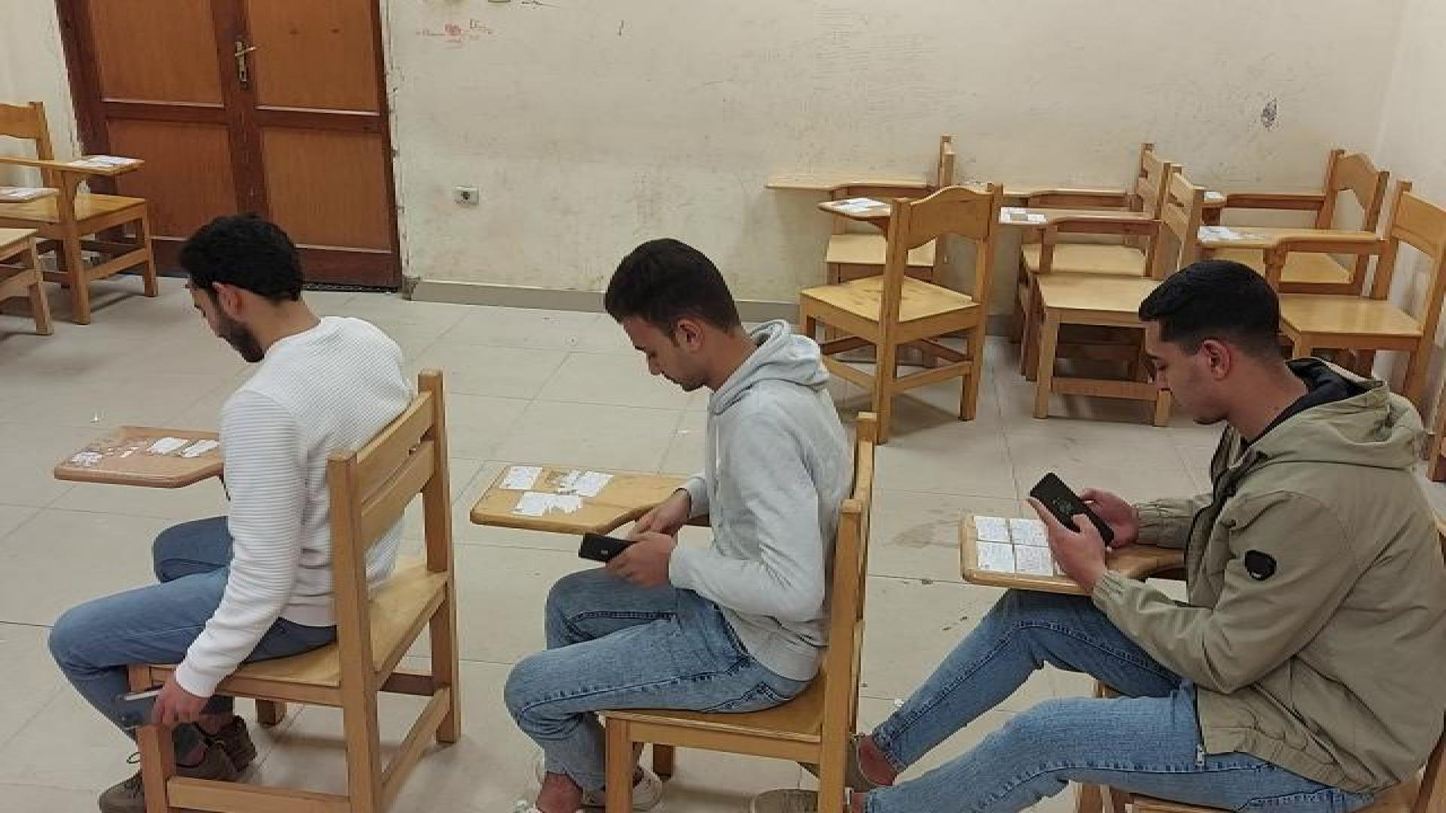phone: (1027, 467, 1117, 553), (108, 683, 203, 727), (576, 531, 633, 561)
